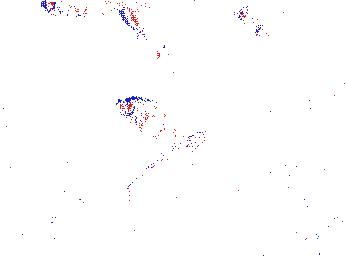X-ray fish: (112, 94, 183, 142)
glassfish: (105, 128, 210, 203)
redtail glassfish: (39, 1, 145, 35), (135, 25, 167, 62), (236, 3, 273, 27)
